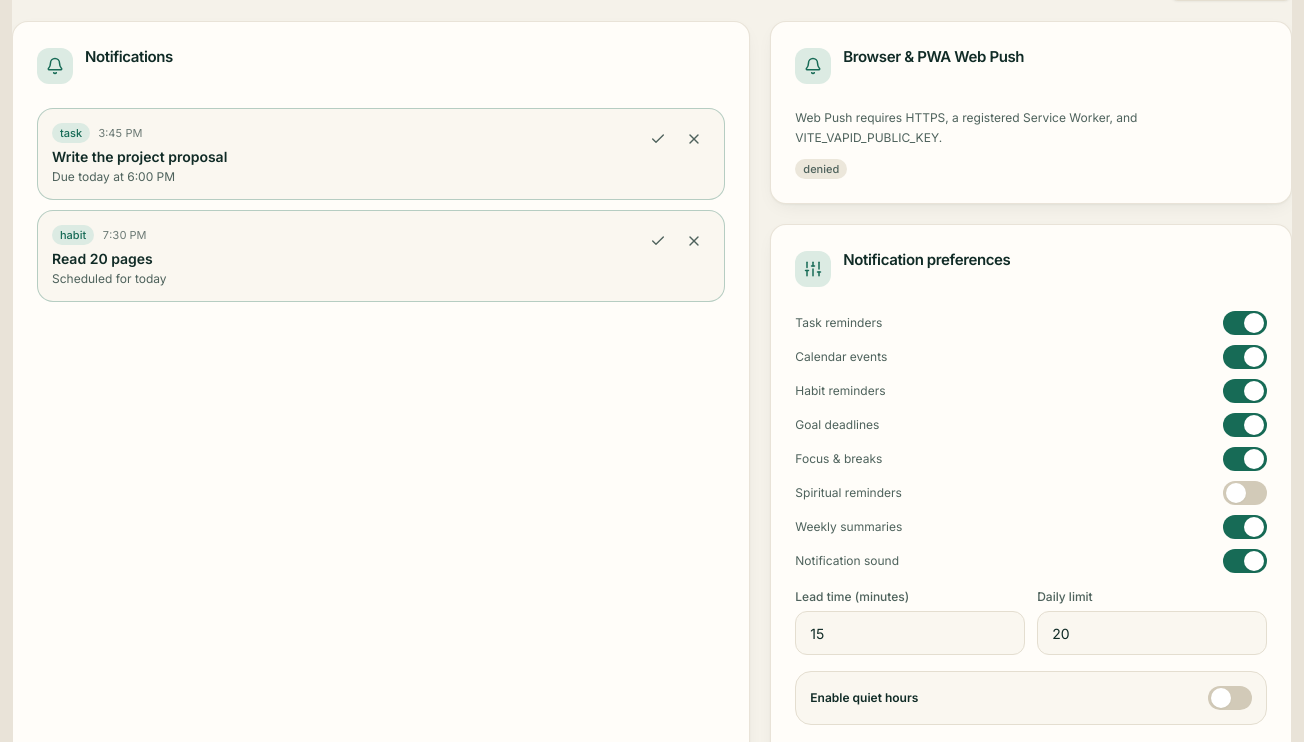
it: NotificationsPage › renders notifications inbox, quiet hours toggle, and push support card
expect the text "Write the project proposal" is shown: met, box [52,148,227,165]
expect the heading "Browser & PWA Web Push" is shown: met, box [843,46,1024,68]
Click the switch named "Enable quiet hours".
click(1230, 698)  # box [1208,686,1252,710]
(page scrolled)
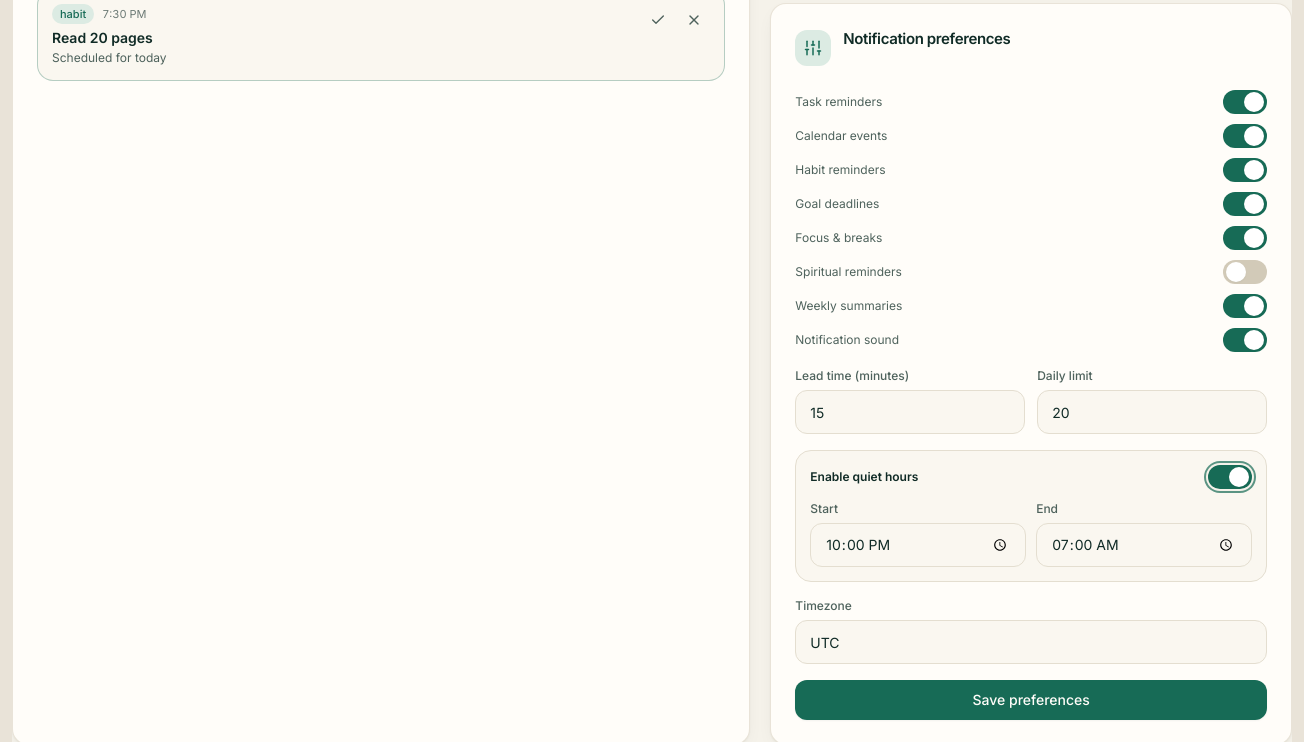
expect the time field labelled "Start" is shown: met, box [810,523,1026,567]
